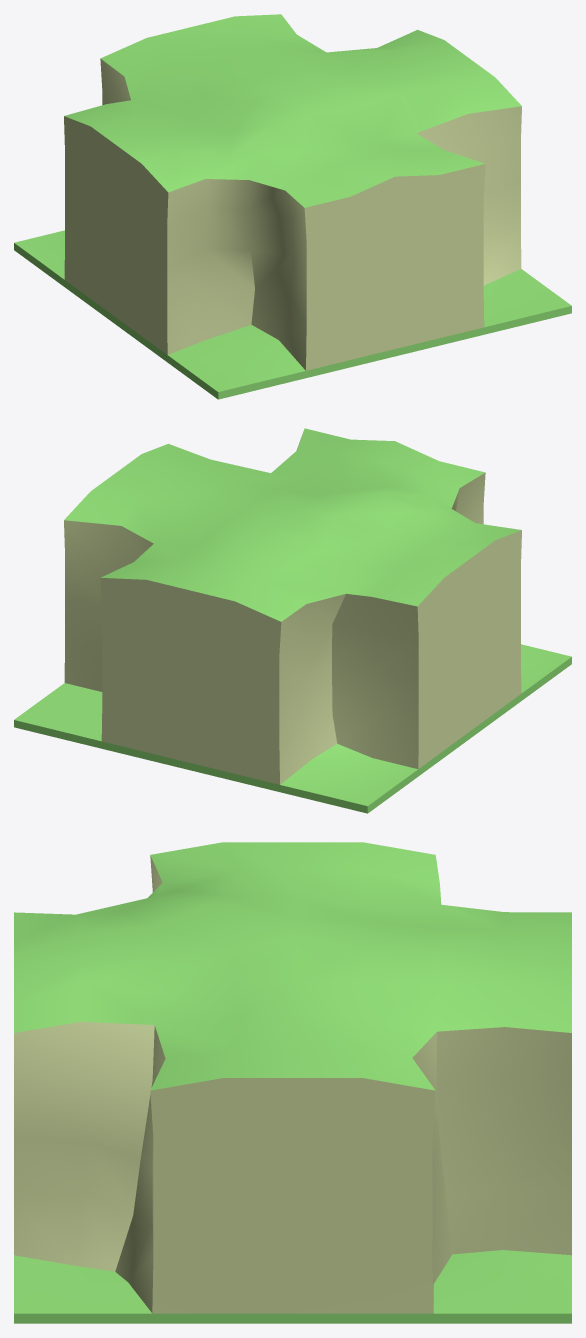
File: wall_slim_join4_1.glb
3 renders of one model, top to bottom at view 1: azimuth 30°, elevation 25°; view 2: azimuth 150°, elevation 25°; view 3: azimuth 270°, elevation 25°, orthographic. The views are drawn at different scales.
Parts seen in each view (by area): view 1: wall_slim_join4_1; view 2: wall_slim_join4_1; view 3: wall_slim_join4_1.
Boxes of the visible parts, box(x1,y1,x2,y2) form: wall_slim_join4_1: box(14, 14, 571, 399); wall_slim_join4_1: box(14, 428, 571, 813); wall_slim_join4_1: box(14, 842, 571, 1323).
Bounding box in the file's own units: 2 × 1.04 × 2.
